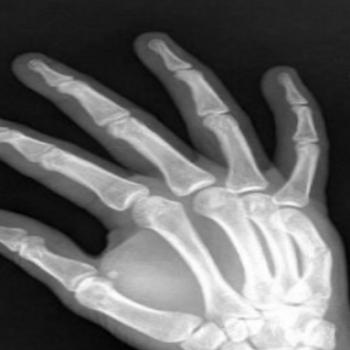Fracture: (302, 244, 338, 265)
